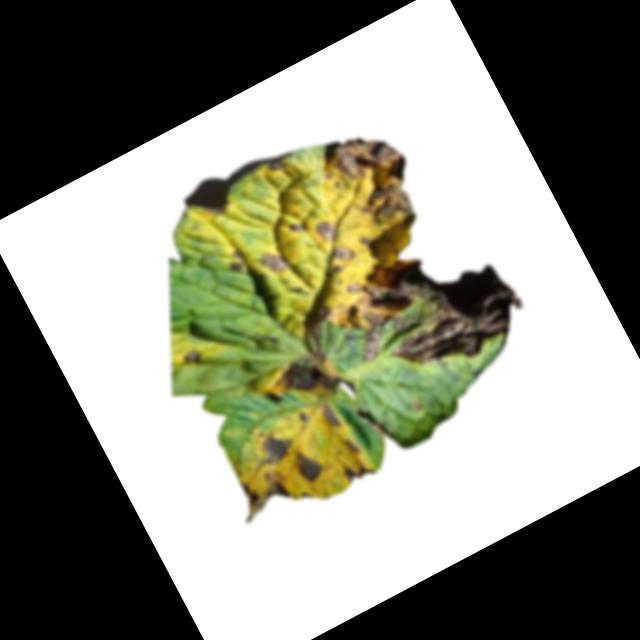Early_blight: (377, 254, 536, 390), (315, 116, 434, 248), (326, 229, 442, 339), (269, 346, 343, 416), (225, 465, 293, 528), (287, 295, 348, 362), (253, 426, 298, 469), (288, 445, 328, 488), (354, 328, 390, 365), (338, 453, 376, 488), (313, 399, 344, 436), (258, 244, 290, 279), (325, 239, 359, 270), (311, 216, 340, 246), (177, 345, 204, 373), (263, 153, 291, 178), (353, 231, 374, 253), (341, 436, 361, 459), (286, 218, 308, 238)
